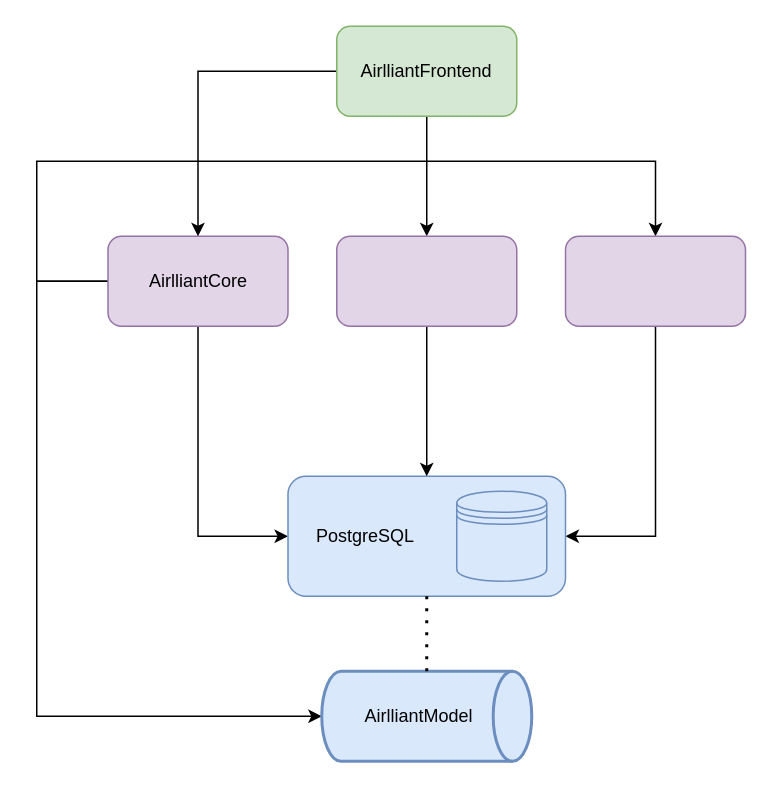
This 773x789 diagram has some shape labels left out. The centre of each missing label's shape, as x and y in pixels:
"AirlliantQuartz" goes at (x=655, y=280).
"Keycloak" goes at (x=426, y=280).
